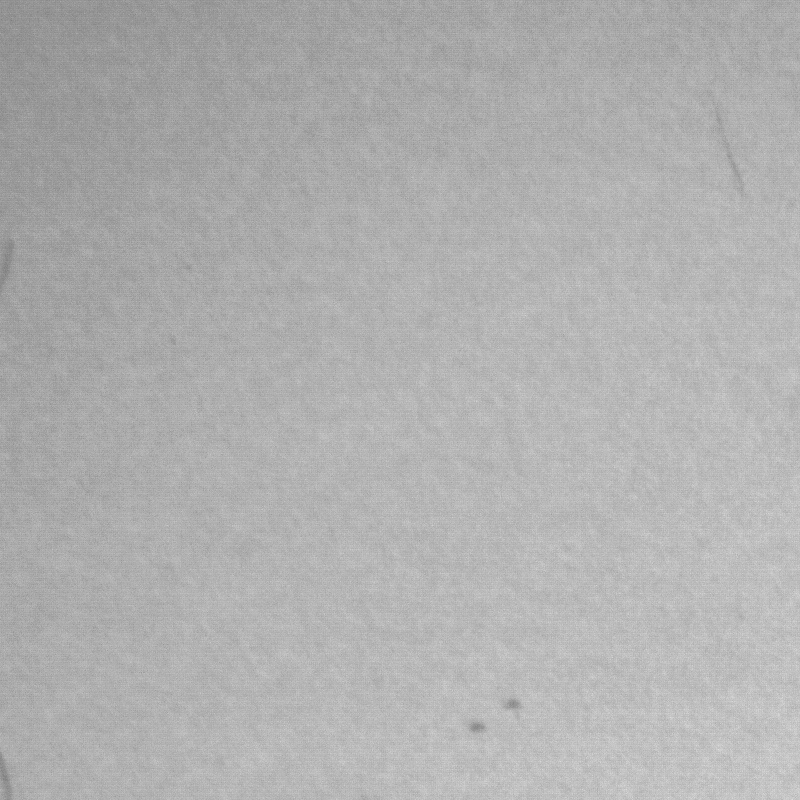defect: (711, 99, 750, 203), (1, 241, 15, 283), (502, 693, 519, 719), (467, 719, 485, 736)
